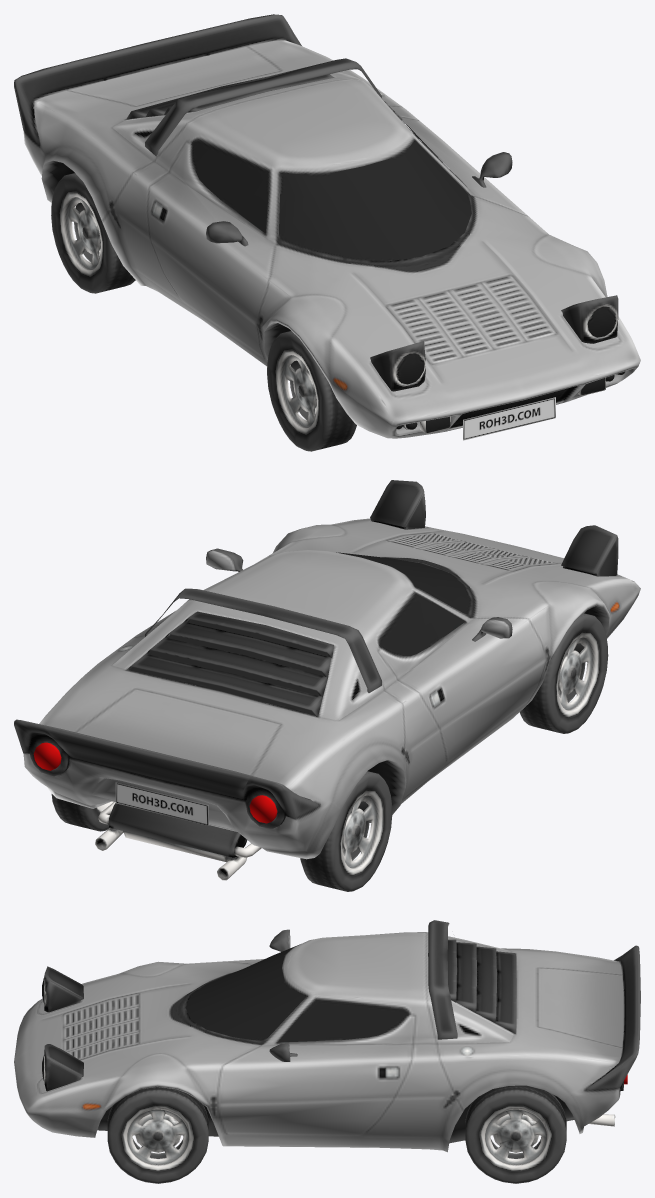
The model's file is rival.glb.
3 views of the same model, one above another, from view 1: azimuth 30°, elevation 25°; view 2: azimuth 150°, elevation 25°; view 3: azimuth 270°, elevation 25° (orthographic). The views are drawn at different scales.
Parts seen in each view (by area): view 1: _Lancia_Stratos000, _Lancia_Stratos001, _Lancia_Stratos002, _Lancia_Stratos003; view 2: _Lancia_Stratos000, _Lancia_Stratos001, _Lancia_Stratos003, _Lancia_Stratos002; view 3: _Lancia_Stratos000, _Lancia_Stratos001, _Lancia_Stratos003, _Lancia_Stratos002.
Part boxes in pixels (x1,y1,x2,y2): _Lancia_Stratos000: [14, 14, 640, 440]; _Lancia_Stratos001: [191, 101, 625, 432]; _Lancia_Stratos002: [267, 331, 356, 451]; _Lancia_Stratos003: [51, 173, 135, 293]; _Lancia_Stratos000: [14, 480, 640, 880]; _Lancia_Stratos001: [33, 552, 471, 823]; _Lancia_Stratos003: [51, 771, 392, 891]; _Lancia_Stratos002: [519, 613, 608, 733]; _Lancia_Stratos000: [14, 920, 640, 1152]; _Lancia_Stratos001: [42, 944, 627, 1084]; _Lancia_Stratos003: [465, 1085, 566, 1183]; _Lancia_Stratos002: [107, 1087, 208, 1183].
Bounding box in the file's own units: 1.73 × 1.14 × 3.71.
Materials: 1 (1 with a texture image).
